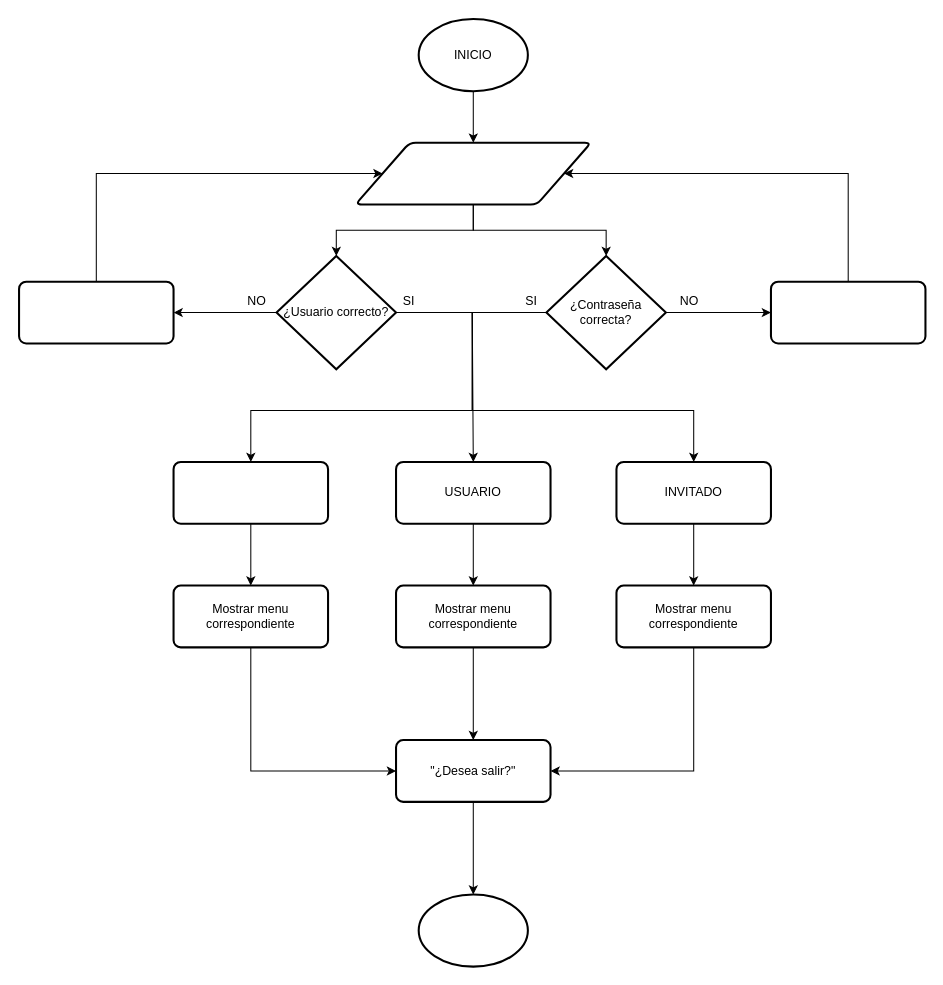
This 943x985 diagram has some shape labels left out. Each missing label, with the centre of its shape:
"Contraseña invalida": [847,312]
"Usuario no reconocido": [96,312]
ADMINISTRADOR: [250,492]
FIN: [472,930]
Pedir usuario y contraseña: [473,173]
